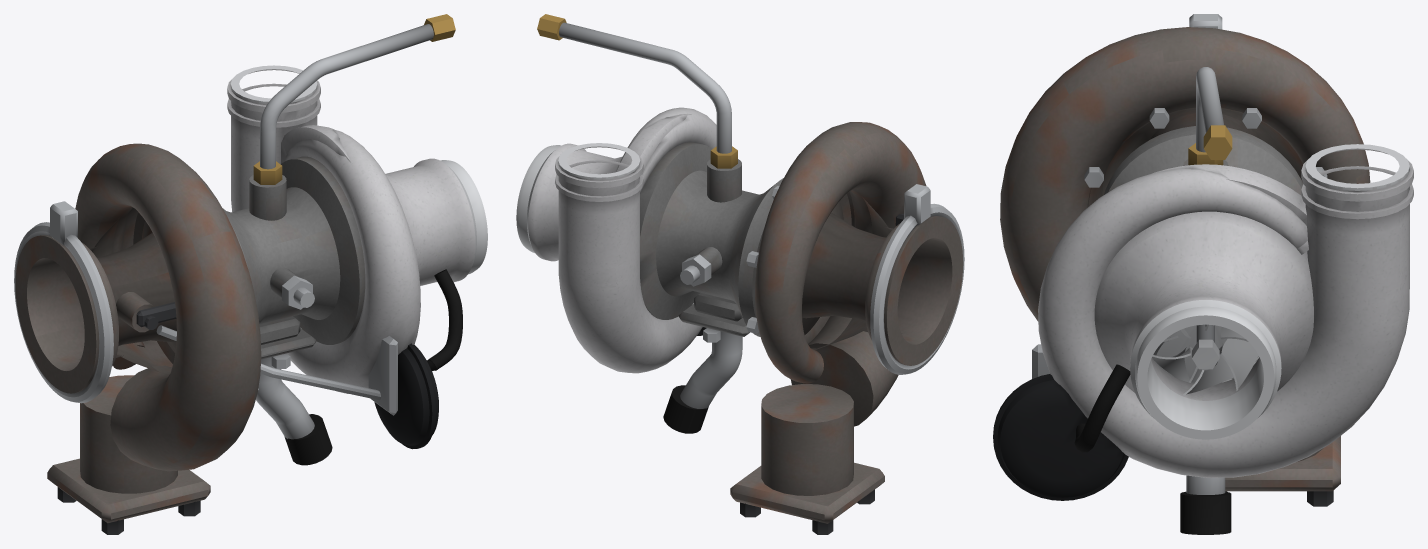
The model's file is turbo-hi-v1.glb.
3 views of the same model, side by side, from view 1: azimuth 30°, elevation 25°; view 2: azimuth 150°, elevation 25°; view 3: azimuth 270°, elevation 25° (orthographic). The views are drawn at different scales.
Visible parts, largest first — view 1: turbine_housing, compressor_housing, center_housing, actuator, oil_feed, oil_drain; view 2: turbine_housing, compressor_housing, center_housing, oil_feed, oil_drain; view 3: compressor_housing, turbine_housing, actuator, center_housing, compressor_wheel, oil_feed, oil_drain.
Boxes of the visible parts, bbox=[...] form: turbine_housing: bbox=[14, 143, 261, 534]; compressor_housing: bbox=[227, 65, 487, 393]; center_housing: bbox=[223, 156, 365, 368]; actuator: bbox=[156, 269, 462, 449]; oil_feed: bbox=[253, 14, 455, 184]; oil_drain: bbox=[255, 357, 332, 465]; turbine_housing: bbox=[730, 122, 964, 534]; compressor_housing: bbox=[516, 107, 716, 373]; center_housing: bbox=[640, 142, 783, 342]; oil_feed: bbox=[537, 14, 737, 168]; oil_drain: bbox=[663, 331, 742, 433]; compressor_housing: bbox=[1038, 144, 1413, 477]; turbine_housing: bbox=[1000, 14, 1370, 506]; actuator: bbox=[993, 344, 1130, 500]; center_housing: bbox=[1084, 108, 1327, 195]; compressor_wheel: bbox=[1152, 324, 1259, 395]; oil_feed: bbox=[1188, 67, 1232, 165]; oil_drain: bbox=[1180, 475, 1231, 534].
Size of the model in its own units: 0.2745 by 0.2796 by 0.2057.
Materials: 12 (3 with a texture image).
